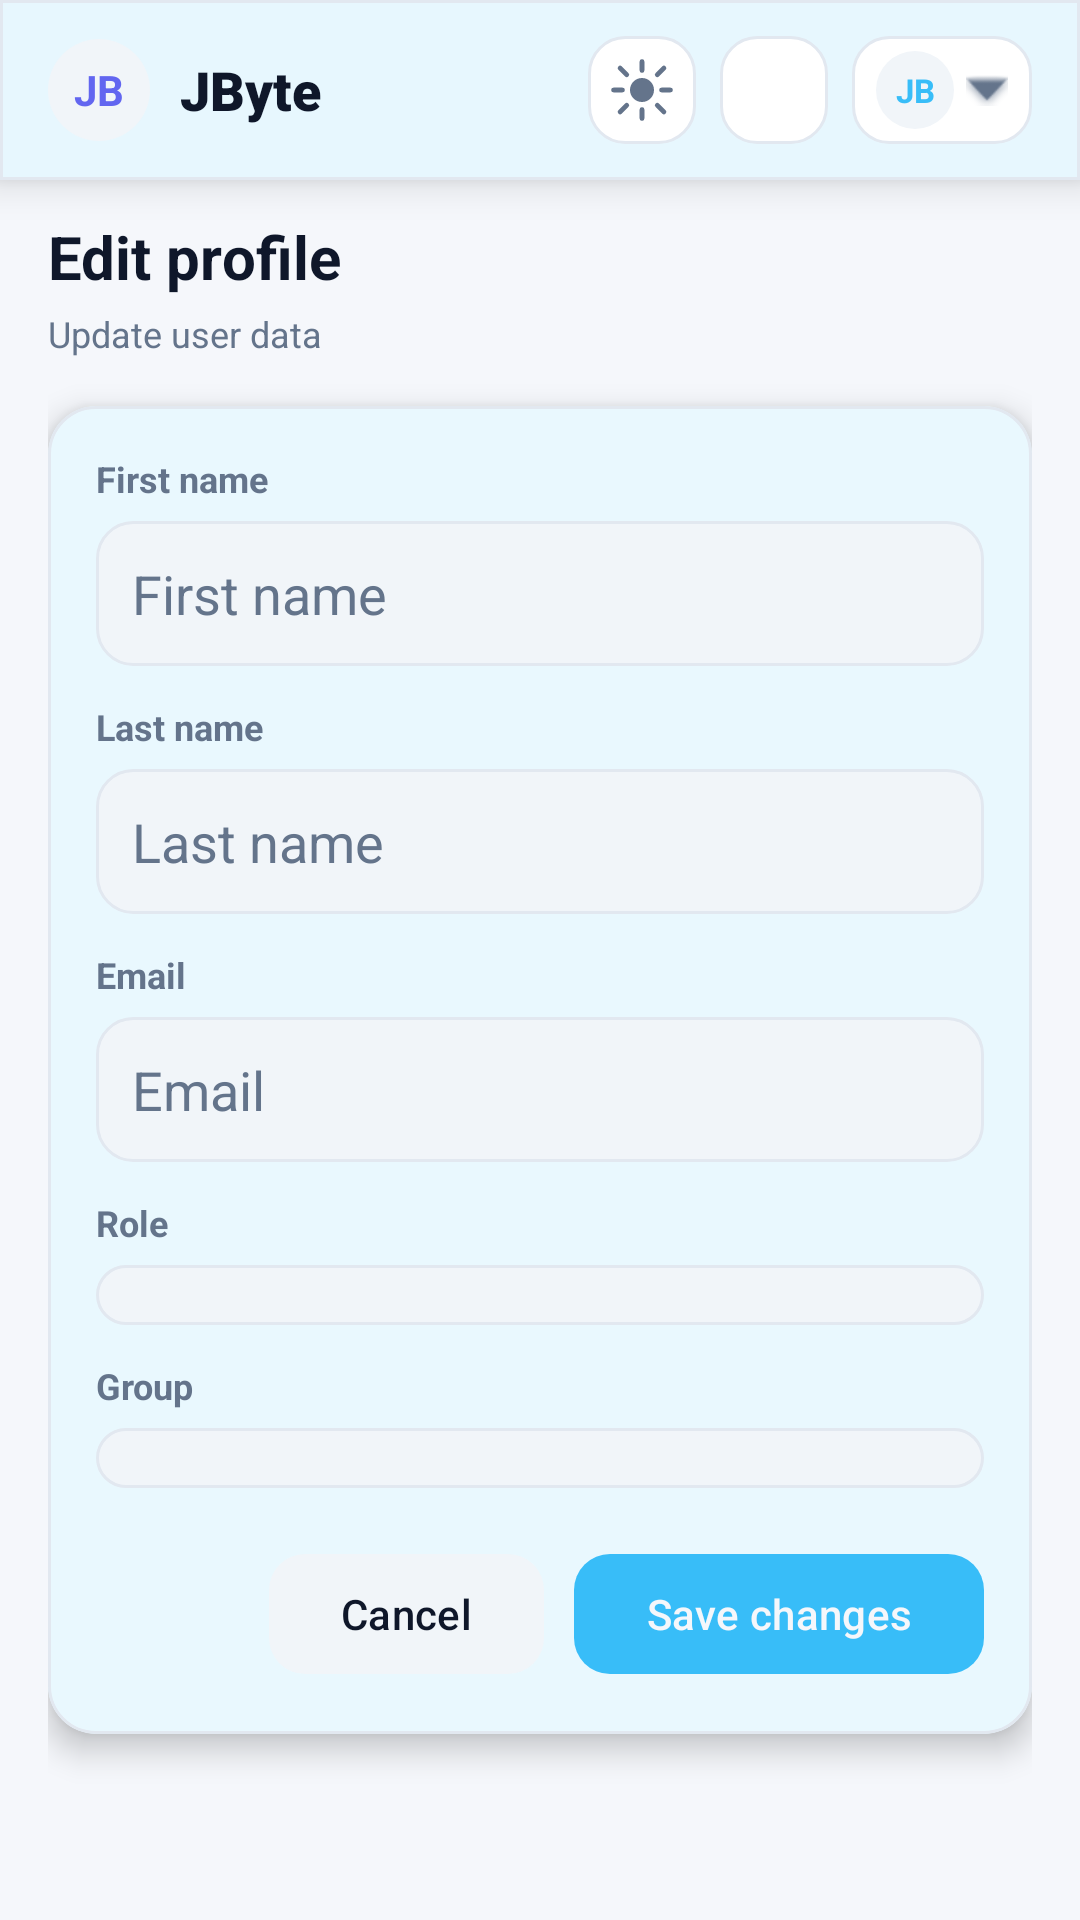

Icon click points for this 1080×1920 phone screenshot, format (x,y):
arrow down float: (987,90)
Theme: (642,90)
